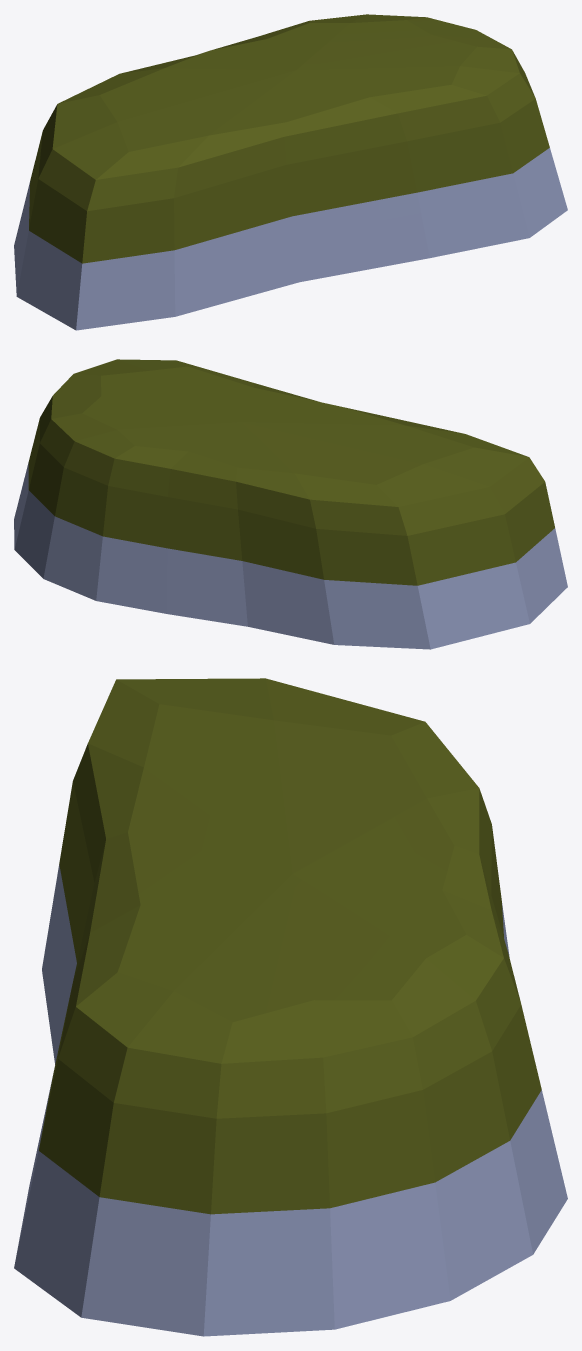
The model's file is Island_2.fbx.
3 views of the same model, one above another, from view 1: azimuth 30°, elevation 25°; view 2: azimuth 150°, elevation 25°; view 3: azimuth 270°, elevation 25° (orthographic). The views are drawn at different scales.
Parts seen in each view (by area): view 1: Island_2; view 2: Island_2; view 3: Island_2.
Part boxes in pixels (x1,y1,x2,y2): Island_2: [14, 14, 567, 330]; Island_2: [14, 359, 567, 649]; Island_2: [14, 678, 567, 1336].
Bounding box in the file's own units: 16.52 × 4.45 × 8.56.
